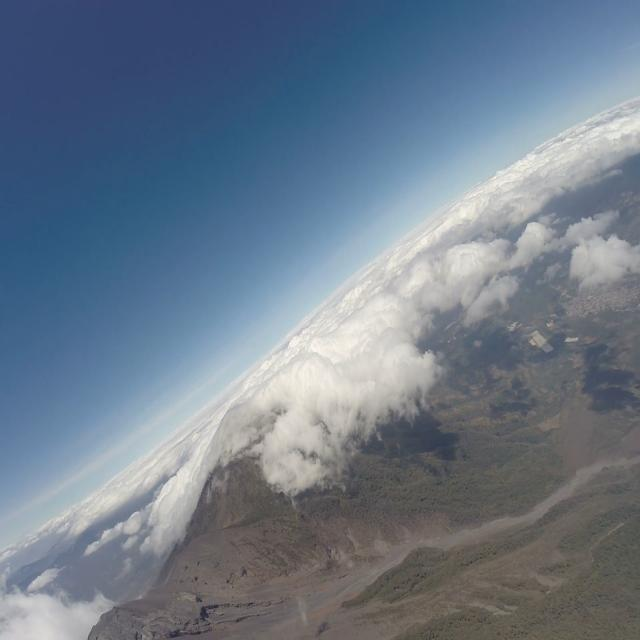Summit: (77, 581, 247, 640)
